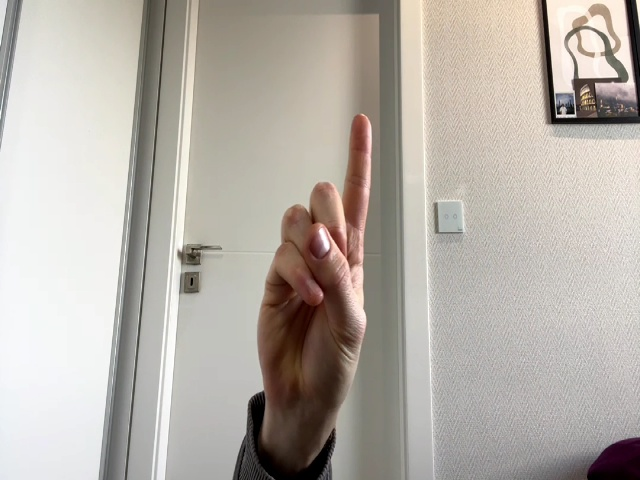Z: (258, 114, 372, 401)
